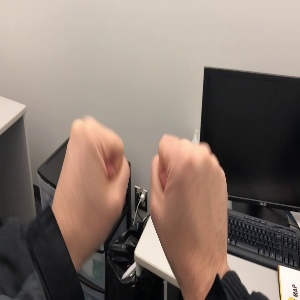hand: (150, 133, 227, 265), (55, 115, 129, 244)
